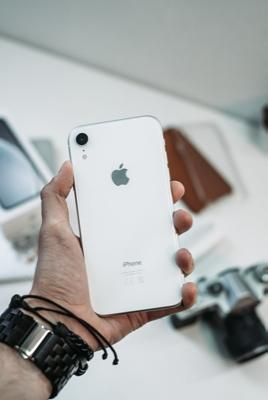Mobile Phone: (66, 113, 185, 317)
